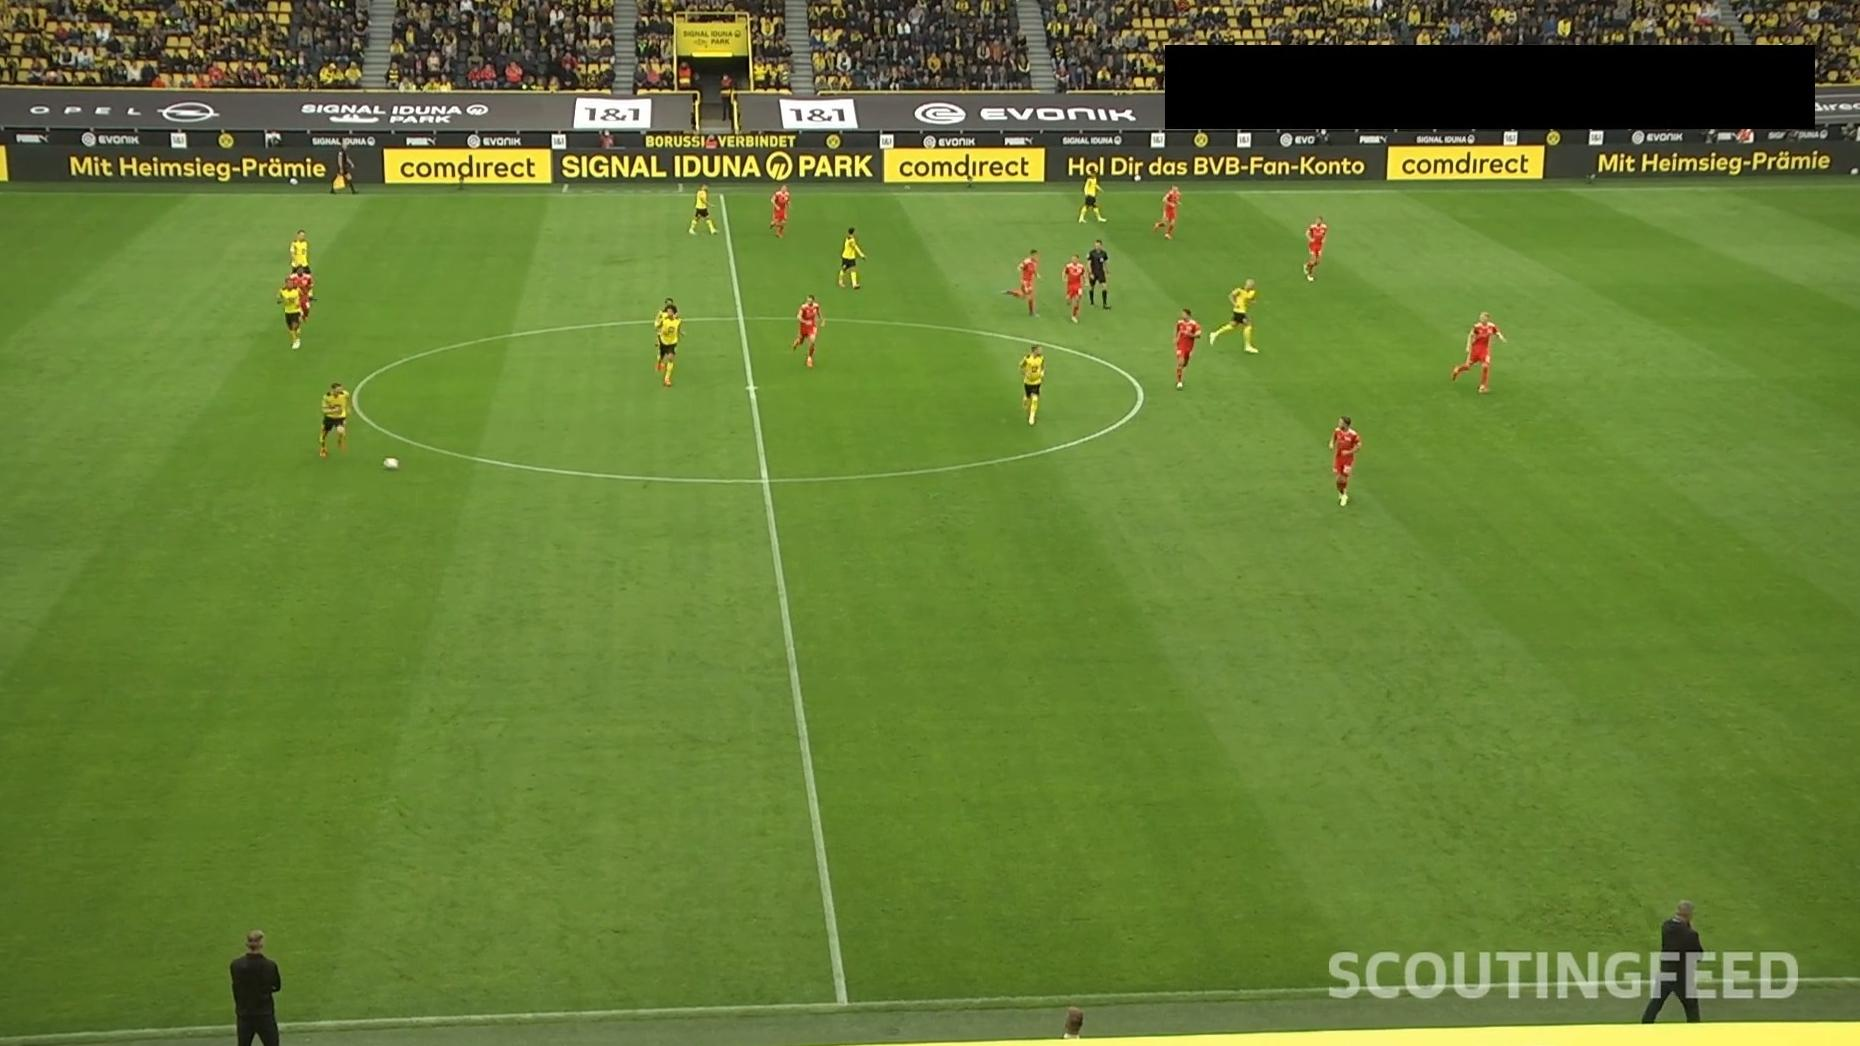ball: (381, 456, 400, 473)
